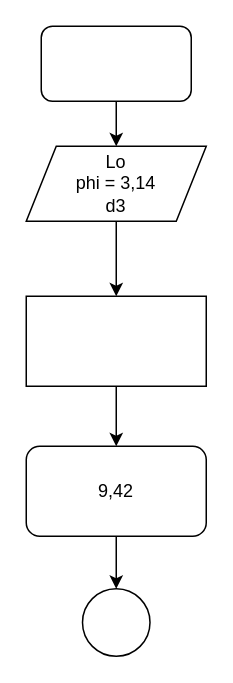
Image size: 233x683. Some labels were removed from this diagram. The centre of each missing label's shape, as x and y in pixels:
Lo =phi*d3 3,14*3: the point at 115,340
satart: the point at 115,63
